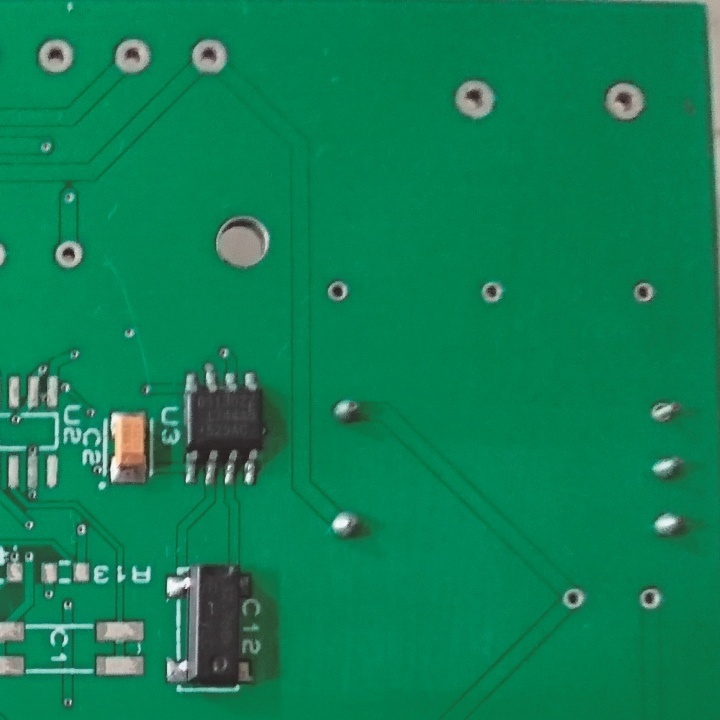F: (598, 79, 646, 123), (450, 76, 496, 120), (189, 37, 230, 76), (36, 35, 74, 76), (112, 37, 152, 75), (52, 238, 87, 272), (648, 400, 679, 429), (324, 279, 354, 305), (478, 278, 505, 306), (562, 583, 584, 611), (631, 278, 653, 303), (638, 586, 656, 614)
